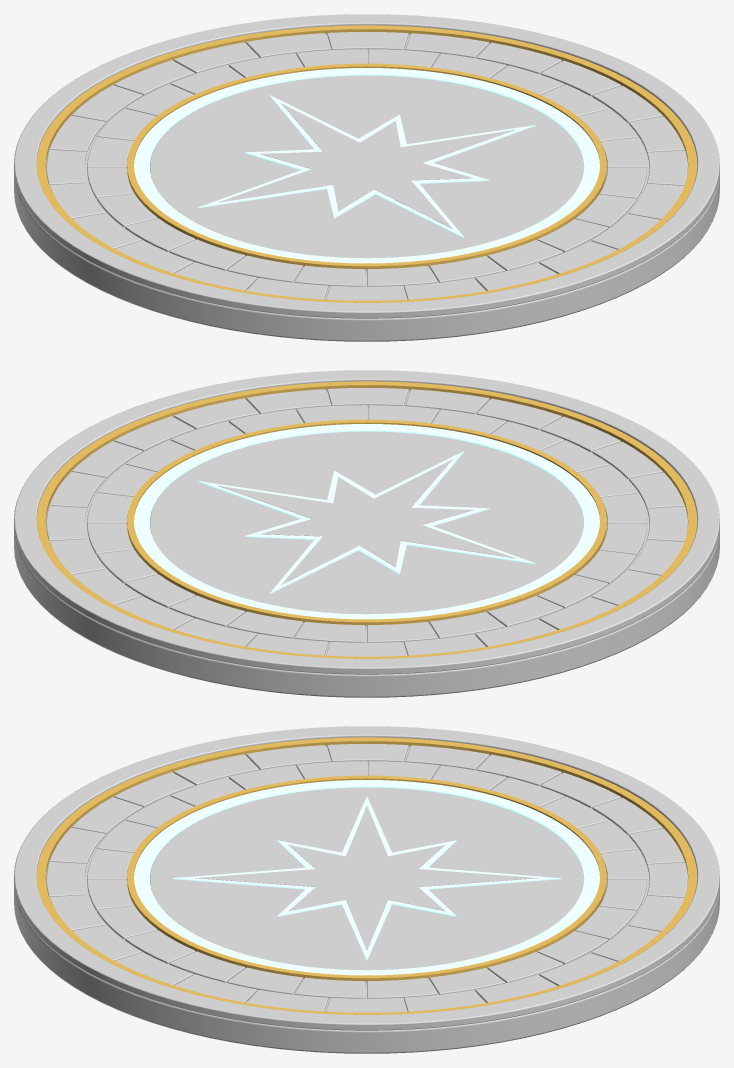
Rendered from Lobby_PROP_SpawnPlaza.fbx.
The picture shows the model from 3 angles, top to bottom: view 1: azimuth 30°, elevation 25°; view 2: azimuth 150°, elevation 25°; view 3: azimuth 270°, elevation 25°; orthographic projection.
Visible parts, largest first — view 1: Lobby_PROP_SpawnPlaza__MarbleLavender, Lobby_PROP_SpawnPlaza__Marble, Lobby_PROP_SpawnPlaza__MarbleShade, Lobby_PROP_SpawnPlaza__Gold, Lobby_PROP_SpawnPlaza__NeonCyan, Lobby_PROP_SpawnPlaza__MarbleStarFill; view 2: Lobby_PROP_SpawnPlaza__MarbleLavender, Lobby_PROP_SpawnPlaza__Marble, Lobby_PROP_SpawnPlaza__MarbleShade, Lobby_PROP_SpawnPlaza__Gold, Lobby_PROP_SpawnPlaza__NeonCyan, Lobby_PROP_SpawnPlaza__MarbleStarFill; view 3: Lobby_PROP_SpawnPlaza__MarbleLavender, Lobby_PROP_SpawnPlaza__Marble, Lobby_PROP_SpawnPlaza__MarbleShade, Lobby_PROP_SpawnPlaza__Gold, Lobby_PROP_SpawnPlaza__NeonCyan, Lobby_PROP_SpawnPlaza__MarbleStarFill.
Part boxes in pixels (box(x1,y1,x2,y2)): Lobby_PROP_SpawnPlaza__MarbleLavender: box(49, 33, 684, 299); Lobby_PROP_SpawnPlaza__Marble: box(14, 14, 719, 318); Lobby_PROP_SpawnPlaza__MarbleShade: box(14, 34, 719, 341); Lobby_PROP_SpawnPlaza__Gold: box(36, 25, 697, 302); Lobby_PROP_SpawnPlaza__NeonCyan: box(134, 68, 599, 263); Lobby_PROP_SpawnPlaza__MarbleStarFill: box(218, 103, 515, 228); Lobby_PROP_SpawnPlaza__MarbleLavender: box(49, 389, 684, 655); Lobby_PROP_SpawnPlaza__Marble: box(14, 370, 719, 674); Lobby_PROP_SpawnPlaza__MarbleShade: box(14, 390, 719, 697); Lobby_PROP_SpawnPlaza__Gold: box(36, 381, 697, 658); Lobby_PROP_SpawnPlaza__NeonCyan: box(134, 424, 599, 619); Lobby_PROP_SpawnPlaza__MarbleStarFill: box(218, 459, 515, 584); Lobby_PROP_SpawnPlaza__MarbleLavender: box(49, 745, 684, 1011); Lobby_PROP_SpawnPlaza__Marble: box(14, 726, 719, 1030); Lobby_PROP_SpawnPlaza__MarbleShade: box(14, 746, 719, 1053); Lobby_PROP_SpawnPlaza__Gold: box(36, 737, 697, 1014); Lobby_PROP_SpawnPlaza__NeonCyan: box(134, 780, 599, 975); Lobby_PROP_SpawnPlaza__MarbleStarFill: box(195, 806, 538, 949).
Size of the model in its own units: 31.2 by 1.51 by 31.2.
